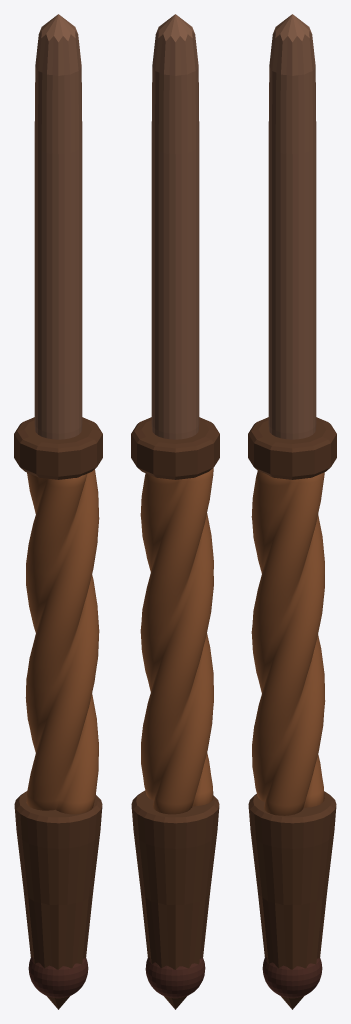
Rendered from Wand 813.glb.
3 views of the same model, side by side, from view 1: azimuth 90°, elevation 25°; view 2: azimuth 150°, elevation 25°; view 3: azimuth 270°, elevation 25° (orthographic).
Visible parts, largest first — view 1: GeneratedWand; view 2: GeneratedWand; view 3: GeneratedWand.
Boxes of the visible parts, x1,y1,x2,y2 form: GeneratedWand: [14, 14, 102, 1009]; GeneratedWand: [131, 14, 219, 1009]; GeneratedWand: [248, 14, 336, 1009].
Bounding box in the file's own units: 0.0398 × 0.4918 × 0.0398.
